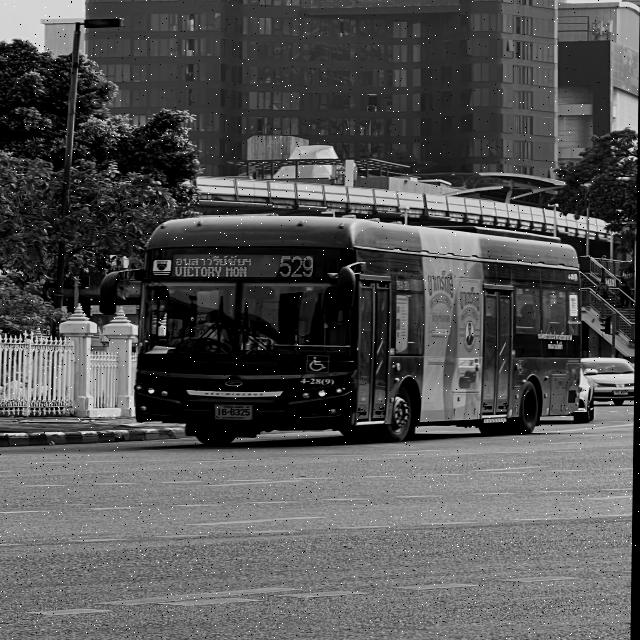Bus-Line-Number: (271, 251, 322, 280)
Destination-Sign-Normal: (170, 253, 258, 280)
TSB-Bus: (135, 213, 598, 447)
